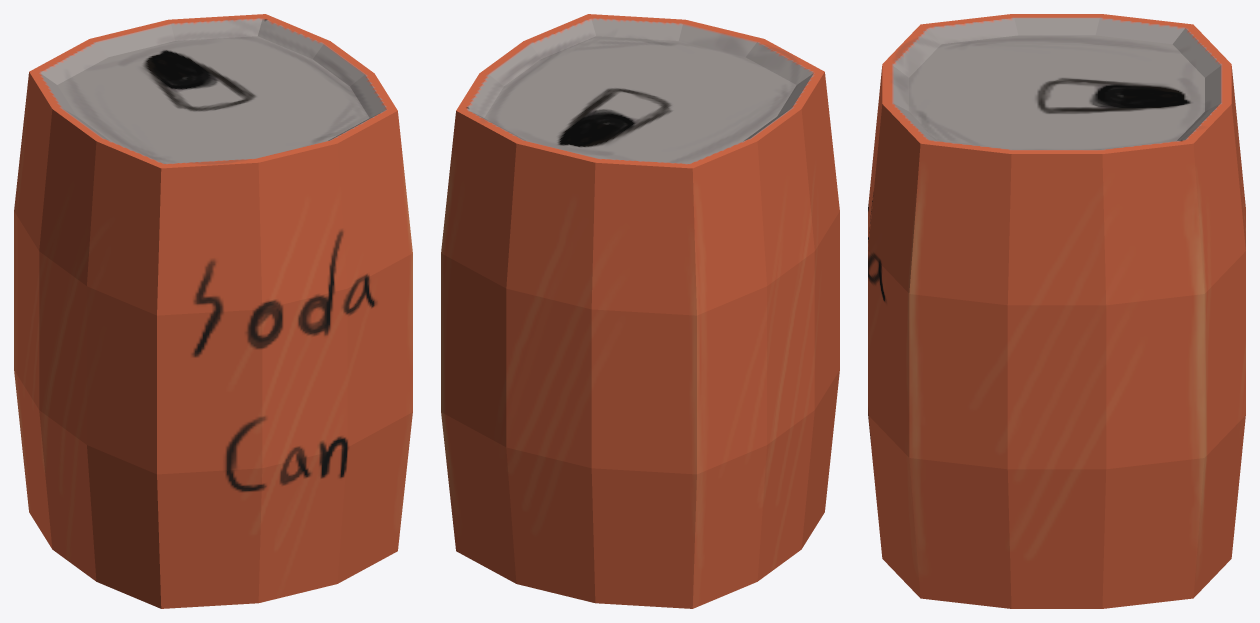
Rendered from Can_Small.fbx.
The picture shows the model from 3 angles, left to right: view 1: azimuth 30°, elevation 25°; view 2: azimuth 150°, elevation 25°; view 3: azimuth 270°, elevation 25°; orthographic projection. The views are drawn at different scales.
Parts seen in each view (by area): view 1: Cube.004; view 2: Cube.004; view 3: Cube.004.
Boxes of the visible parts, x1,y1,x2,y2 form: Cube.004: (14,14,412,608); Cube.004: (441,14,839,608); Cube.004: (868,14,1245,608).
Bounding box in the file's own units: 18.22 × 25.49 × 19.19.
